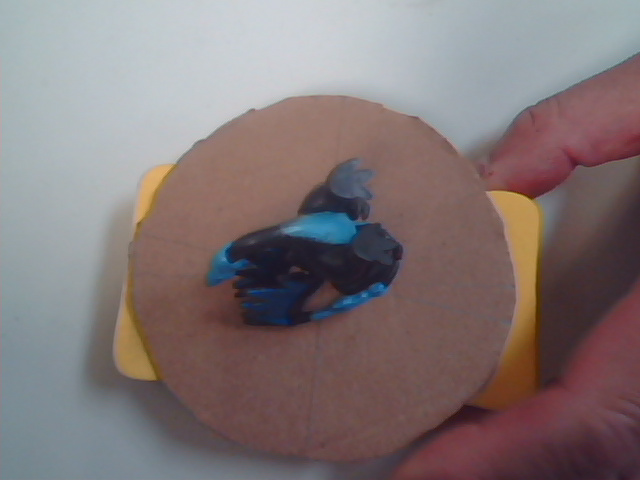charizard: (228, 146, 465, 384)
